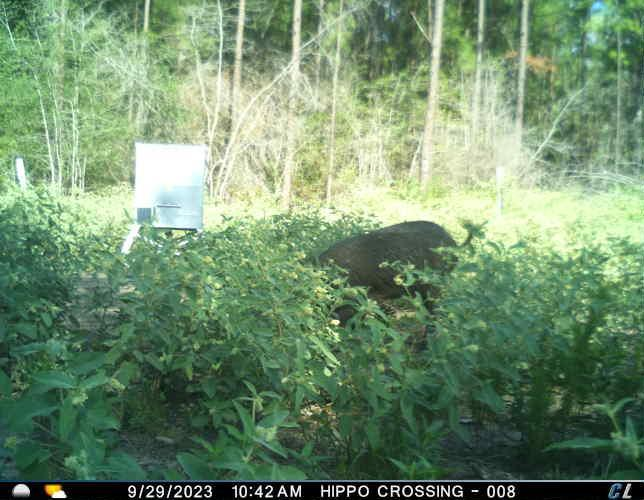Hog: (298, 218, 477, 332)
